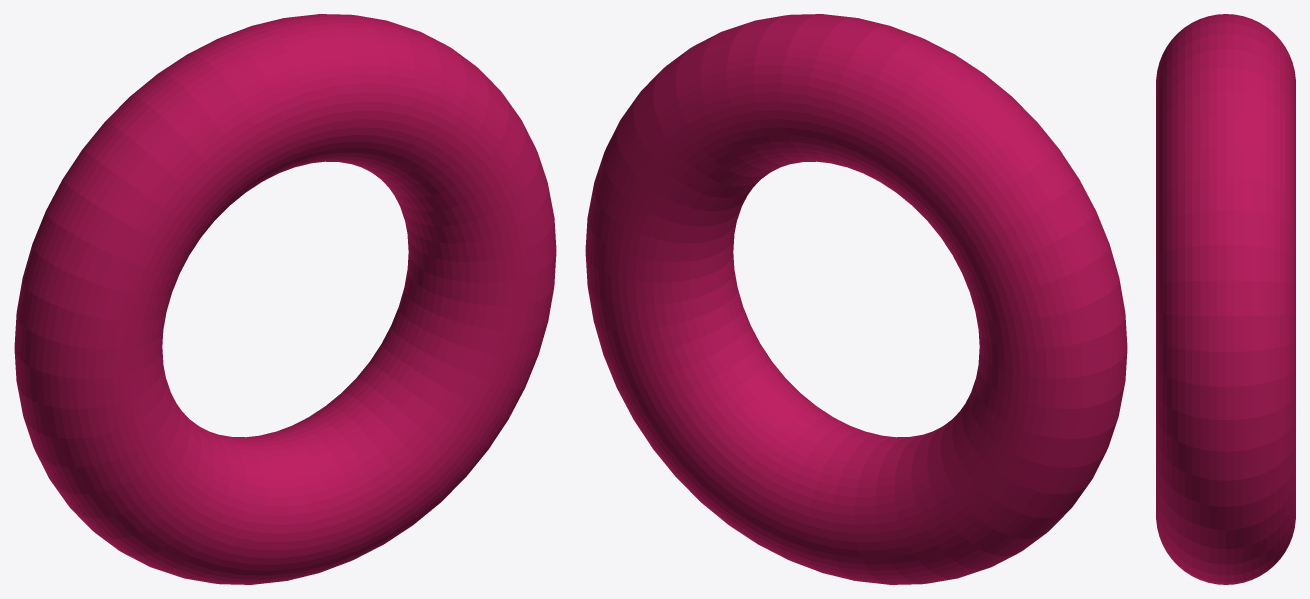
The picture shows the model from 3 angles, left to right: view 1: azimuth 30°, elevation 25°; view 2: azimuth 150°, elevation 25°; view 3: azimuth 270°, elevation 25°; orthographic projection. The views are drawn at different scales.
Visible parts, largest first — view 1: world; view 2: world; view 3: world.
Boxes of the visible parts, x1,y1,x2,y2 form: world: [14, 14, 556, 584]; world: [585, 14, 1127, 584]; world: [1156, 14, 1295, 584].
Bounding box in the file's own units: 35.33 × 35.26 × 8.65.
